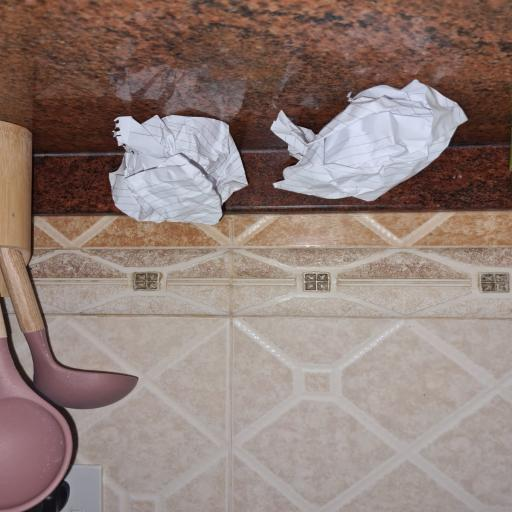Kertas: (268, 83, 469, 207), (109, 114, 246, 224)
